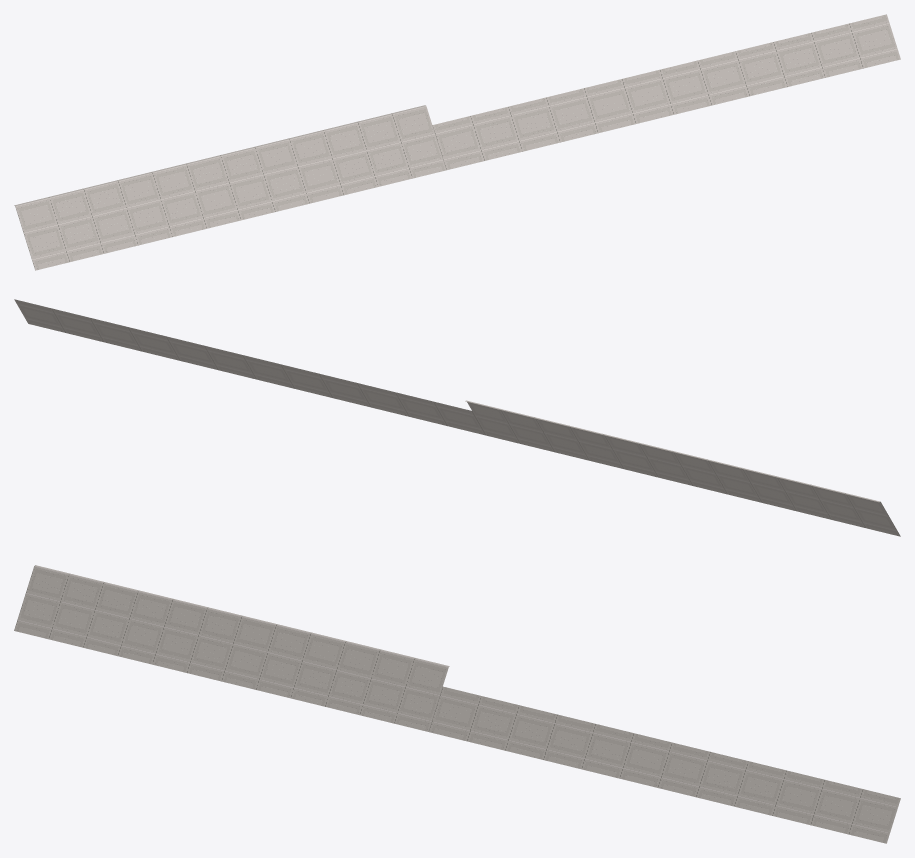
The model's file is kd_stage_135b75_2_16.glb.
3 views of the same model, one above another, from view 1: azimuth 30°, elevation 25°; view 2: azimuth 150°, elevation 25°; view 3: azimuth 330°, elevation 25° (orthographic).
Visible parts, largest first — view 1: kd_stage_135b75_2_16; view 2: kd_stage_135b75_2_16; view 3: kd_stage_135b75_2_16.
Part boxes in pixels (x1,y1,x2,y2): kd_stage_135b75_2_16: (14,14,900,270); kd_stage_135b75_2_16: (14,299,900,536); kd_stage_135b75_2_16: (14,565,900,843).
Size of the model in its own units: 18.36 by 1.01 by 0.7825.
Materials: 1 (1 with a texture image).
